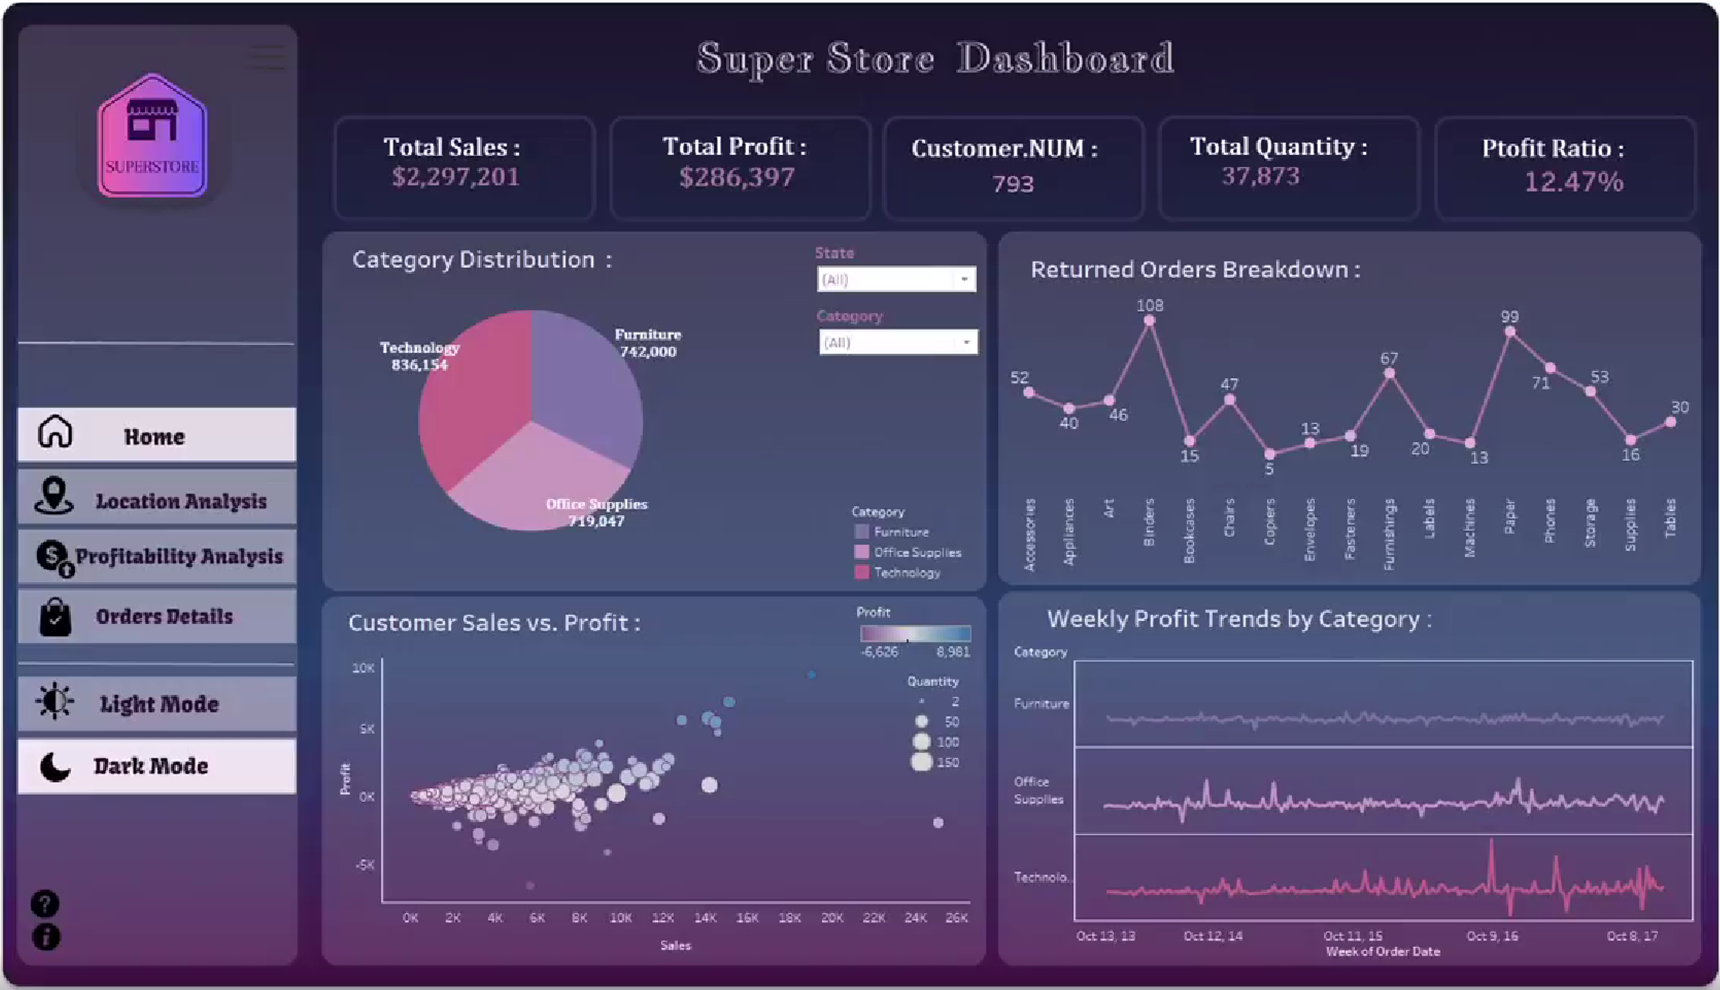

The dashboard page shown, as its layout file describes it:
{"tool":"tableau","page":{"name":"Dark SALES","canvas":[1720,1001],"ordinal":1},"visuals":[{"type":"image","param":"Image/Group 8.png","box":[8,8,1704,985]},{"type":"filter","title":"Quantity Card","param":"[federated.0ffl41n0sf1a36115xkrm1p4c34k].[none:Segment:nk]","box":[302,38,160,120]},{"type":"dashboard-object","box":[253,47,39,38]},{"type":"worksheet","title":"sales card","mark":"Automatic","box":[363,142,206,78]},{"type":"worksheet","title":"Total Profit Card","mark":"Automatic","box":[605,142,246,83]},{"type":"worksheet","title":"Quantity Card","mark":"Automatic","box":[1145,143,225,82]},{"type":"worksheet","title":"Customer.NO","mark":"Automatic","box":[833,145,265,87]},{"type":"worksheet","title":"Profit Ratio Card","mark":"Automatic","box":[1394,145,228,72]},{"type":"text","box":[352,248,260,32]},{"type":"filter","title":"PieChart","param":"[federated.0ffl41n0sf1a36115xkrm1p4c34k].[none:State:nk]","box":[804,248,160,52]},{"type":"text","box":[1010,256,394,36]},{"type":"worksheet","title":"12.lineViz","mark":"Line","rows":["Order ID (Returns)","Order ID (Returns)"],"cols":["Sub-Category"],"box":[988,287,676,296]},{"type":"worksheet","title":"PieChart","mark":"Pie","box":[362,299,439,280]},{"type":"filter","title":"PieChart","param":"[federated.0ffl41n0sf1a36115xkrm1p4c34k].[none:Category:nk]","box":[805,299,157,56]},{"type":"dashboard-object","box":[35,475,258,48]},{"type":"legend","title":"PieChart","param":"[federated.0ffl41n0sf1a36115xkrm1p4c34k].[none:Category:nk]","box":[831,488,133,96]},{"type":"text","box":[1026,603,399,30]},{"type":"text","box":[348,606,309,32]},{"type":"legend","title":"Cuatomer Sales & Profit","param":"[federated.0ffl41n0sf1a36115xkrm1p4c34k].[sum:Profit:qk]","box":[859,612,108,60]},{"type":"worksheet","title":"WeeklyCategoryProfit","mark":"Automatic","rows":["Category","Profit"],"cols":["Order Date"],"box":[987,642,672,319]},{"type":"worksheet","title":"Cuatomer Sales & Profit","mark":"Circle","rows":["Profit"],"cols":["Sales"],"box":[328,652,636,307]},{"type":"dashboard-object","box":[29,683,263,38]},{"type":"legend","title":"Cuatomer Sales & Profit","param":"[federated.0ffl41n0sf1a36115xkrm1p4c34k].[sum:Quantity:qk]","box":[879,692,86,110]},{"type":"dashboard-object","box":[38,739,251,48]},{"type":"worksheet","title":"Help Button","mark":"Shape","box":[27,870,74,45]},{"type":"worksheet","title":"Info Button","mark":"Shape","box":[29,917,70,52]}]}

Visuals, with their boxes in screenshot pixels (x1, y1, x2, y2), scaled from the page's 1720x1001 canvas onto the 1720x990 screenshot:
image: bbox=[8, 8, 1712, 982]
"Quantity Card" filter: bbox=[302, 38, 462, 156]
dashboard-object: bbox=[253, 46, 292, 84]
"sales card" worksheet: bbox=[363, 140, 569, 218]
"Total Profit Card" worksheet: bbox=[605, 140, 851, 223]
"Quantity Card" worksheet: bbox=[1145, 141, 1370, 223]
"Customer.NO" worksheet: bbox=[833, 143, 1098, 229]
"Profit Ratio Card" worksheet: bbox=[1394, 143, 1622, 215]
text: bbox=[352, 245, 612, 277]
"PieChart" filter: bbox=[804, 245, 964, 297]
text: bbox=[1010, 253, 1404, 289]
"12.lineViz" worksheet (Line marks): bbox=[988, 284, 1664, 577]
"PieChart" worksheet (Pie marks): bbox=[362, 296, 801, 573]
"PieChart" filter: bbox=[805, 296, 962, 351]
dashboard-object: bbox=[35, 470, 293, 517]
"PieChart" legend: bbox=[831, 483, 964, 578]
text: bbox=[1026, 596, 1425, 626]
text: bbox=[348, 599, 657, 631]
"Cuatomer Sales & Profit" legend: bbox=[859, 605, 967, 665]
"WeeklyCategoryProfit" worksheet: bbox=[987, 635, 1659, 950]
"Cuatomer Sales & Profit" worksheet (Circle marks): bbox=[328, 645, 964, 948]
dashboard-object: bbox=[29, 675, 292, 713]
"Cuatomer Sales & Profit" legend: bbox=[879, 684, 965, 793]
dashboard-object: bbox=[38, 731, 289, 778]
"Help Button" worksheet (Shape marks): bbox=[27, 860, 101, 905]
"Info Button" worksheet (Shape marks): bbox=[29, 907, 99, 958]
